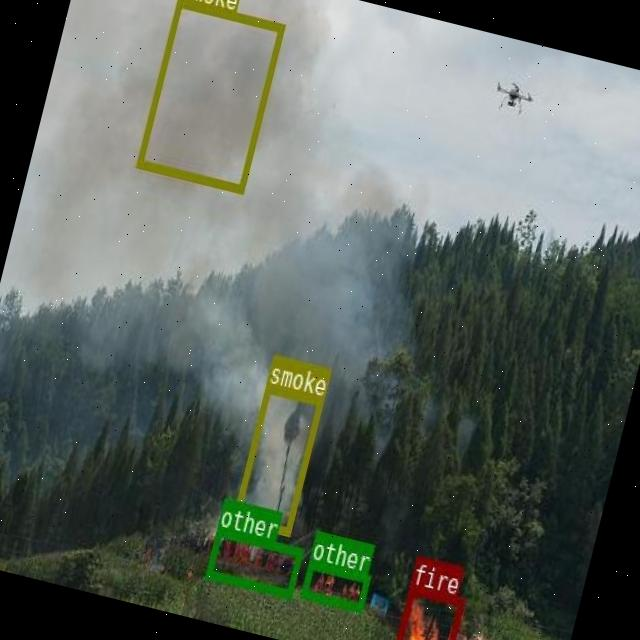fire: (392, 585, 464, 640)
smoke: (136, 0, 285, 191), (230, 382, 322, 534)
